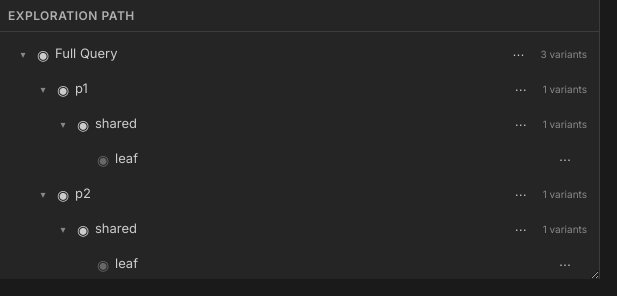
Test: FragmentTree › mounts both occurrences of a repeated fragment without a React key collision
This screenshot has width=617, height=296.
Expected: the text "shared" is shown 2 times, [95,115,137,131]; [95,220,137,236]
Expected: the text "leaf" is shown 2 times, [115,150,138,166]; [115,255,138,271]
Click the 3rd text "▾" at (63, 124), box [60,118,66,130]
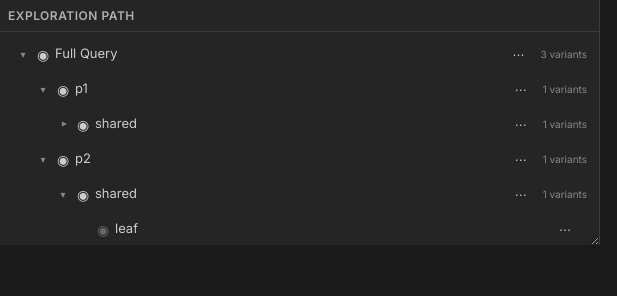
Expected: the text "leaf" is shown once, [115,220,138,236]
